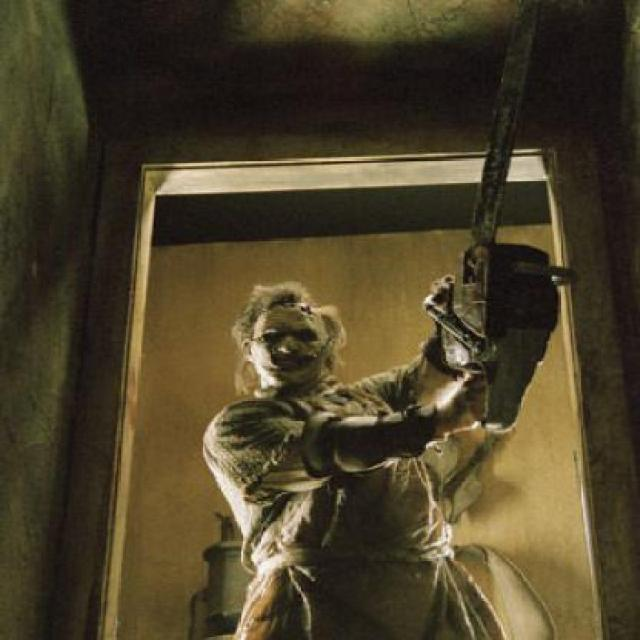Chainsaw: (422, 0, 577, 438)
